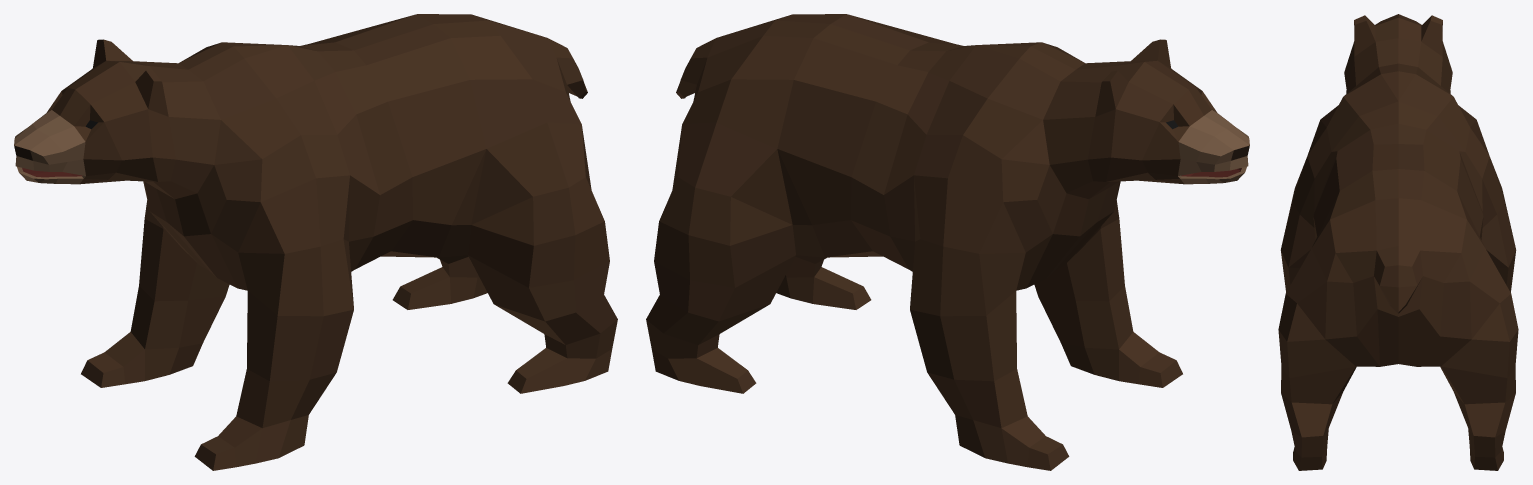
The model's file is f_bear.fbx.
3 renders of one model, left to right at view 1: azimuth 30°, elevation 25°; view 2: azimuth 150°, elevation 25°; view 3: azimuth 270°, elevation 25°, orthographic. The views are drawn at different scales.
Visible parts, largest first — view 1: Cube; view 2: Cube; view 3: Cube.
Boxes of the visible parts, bbox=[...] form: Cube: bbox=[14, 14, 617, 470]; Cube: bbox=[646, 14, 1249, 470]; Cube: bbox=[1278, 14, 1518, 470].
Size of the model in its own units: 370 by 230 by 170.
